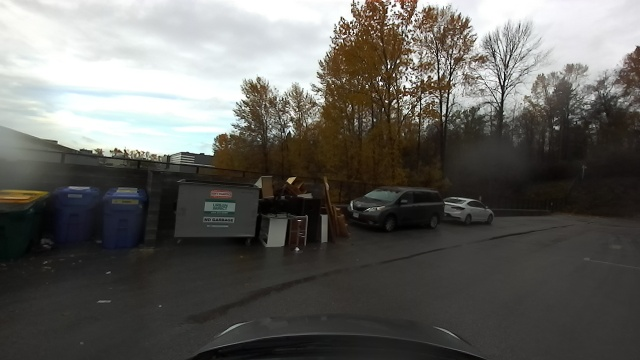car: (348, 185, 446, 233), (447, 195, 497, 229)
